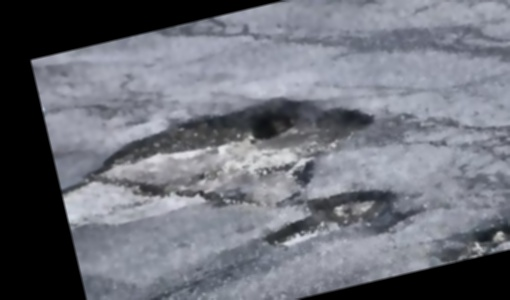pothole: (78, 73, 391, 244), (258, 176, 410, 252), (423, 203, 510, 266)
